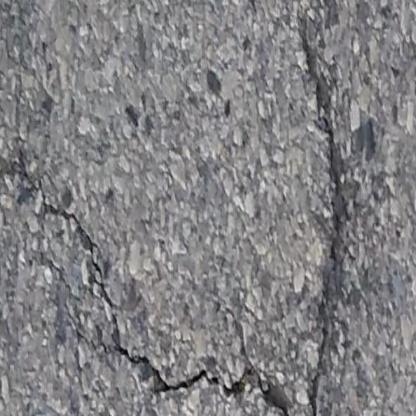Cracks: (0, 160, 297, 416), (299, 30, 349, 416)
